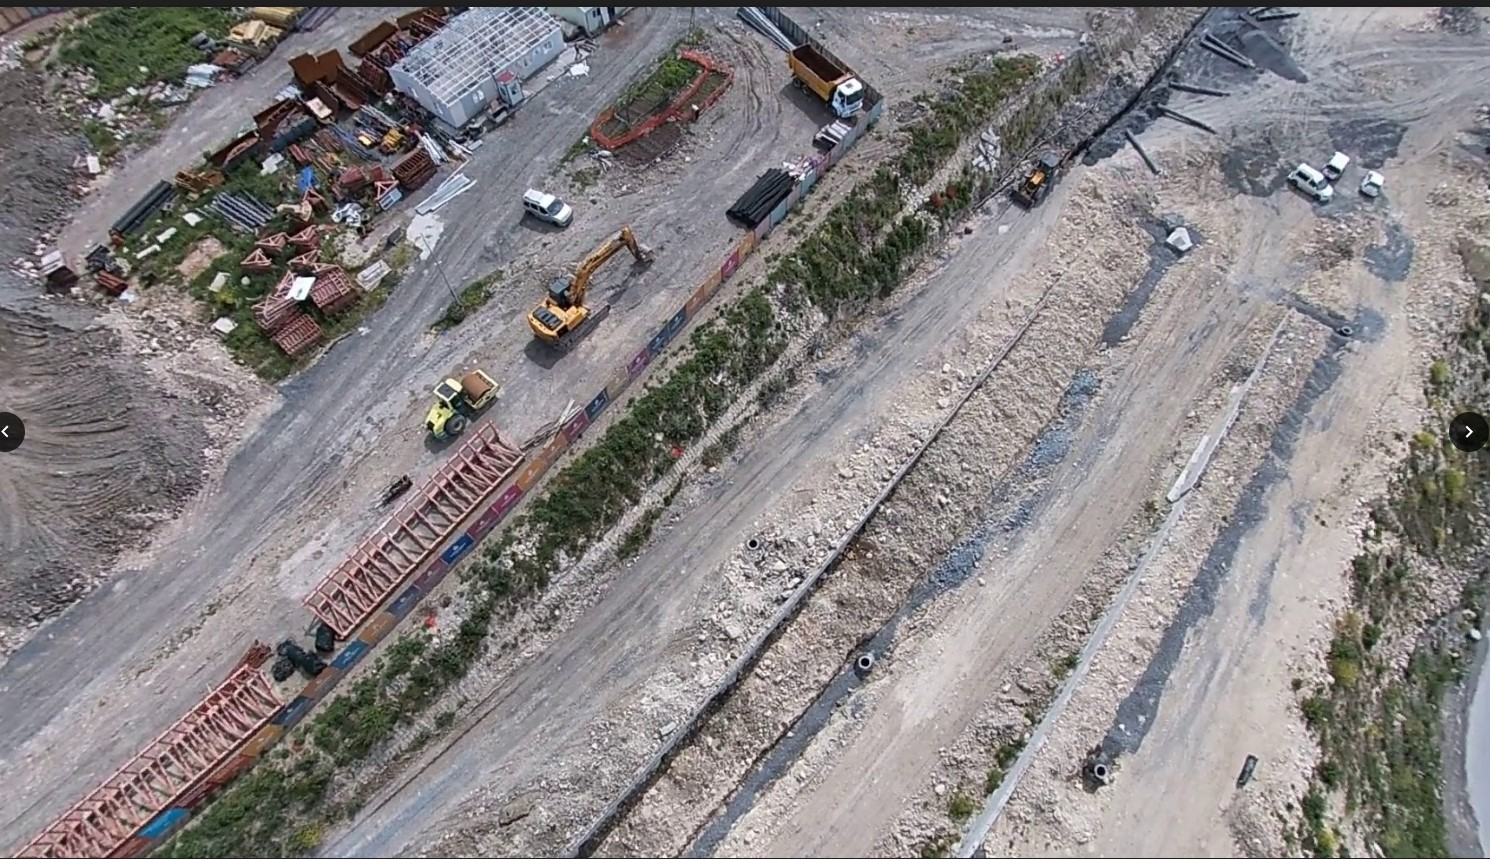araba: (520, 186, 570, 224), (1289, 159, 1335, 199), (1328, 151, 1349, 183), (1362, 167, 1385, 196)
kamyon: (792, 40, 867, 115)
traktor: (417, 372, 503, 447), (1011, 148, 1061, 210)
